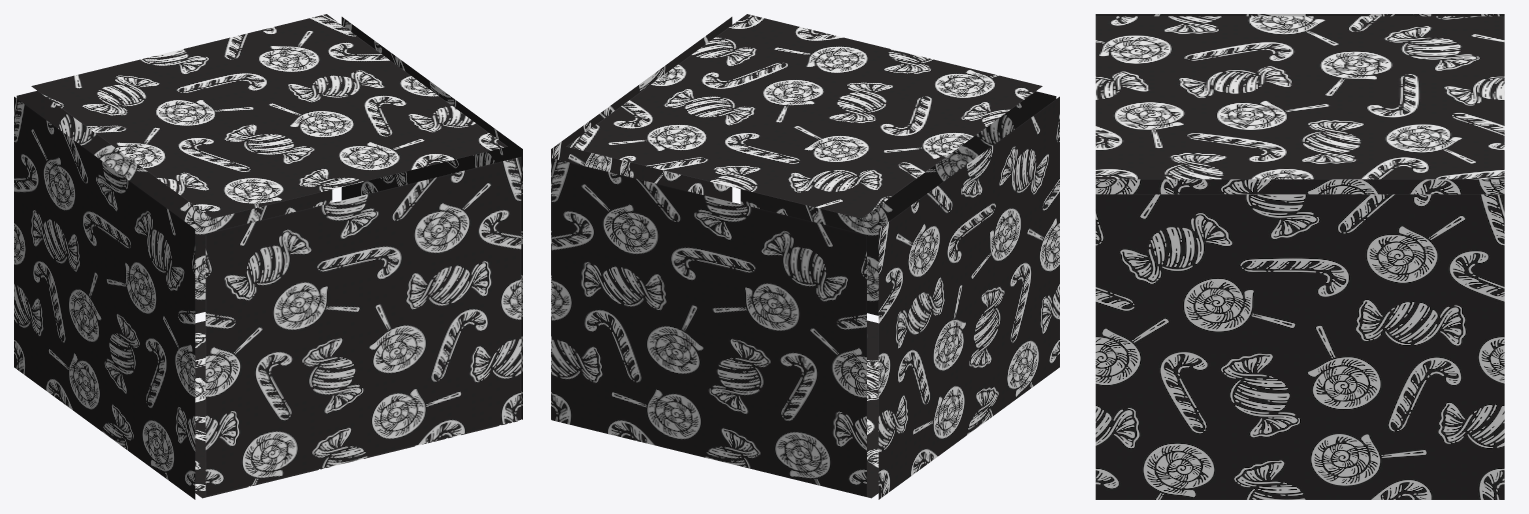
The model's file is pattern3-9x9x5.gltf.
3 views of the same model, side by side, from view 1: azimuth 30°, elevation 25°; view 2: azimuth 150°, elevation 25°; view 3: azimuth 270°, elevation 25° (orthographic). The views are drawn at different scales.
Parts seen in each view (by area): view 1: Cube.005; view 2: Cube.005; view 3: Cube.005.
Boxes of the visible parts, x1=… form: Cube.005: x1=14, y1=14, x2=522, y2=499; Cube.005: x1=551, y1=14, x2=1059, y2=499; Cube.005: x1=1095, y1=14, x2=1504, y2=499.
Bounding box in the file's own units: 3 × 2.43 × 3.
1 material, 1 textured.
